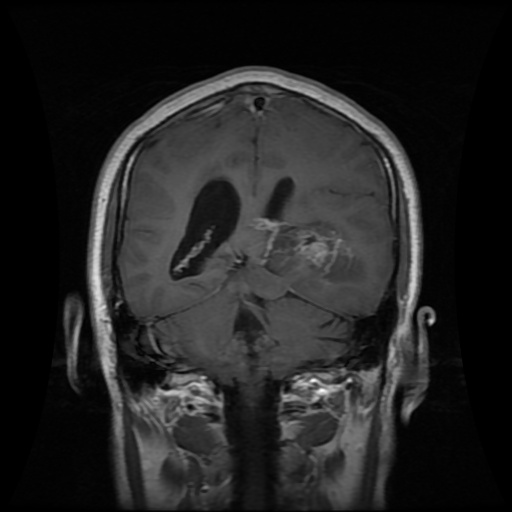glioma: (250, 217, 366, 281)
